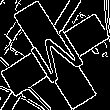M_SE: (22, 21, 88, 89)
